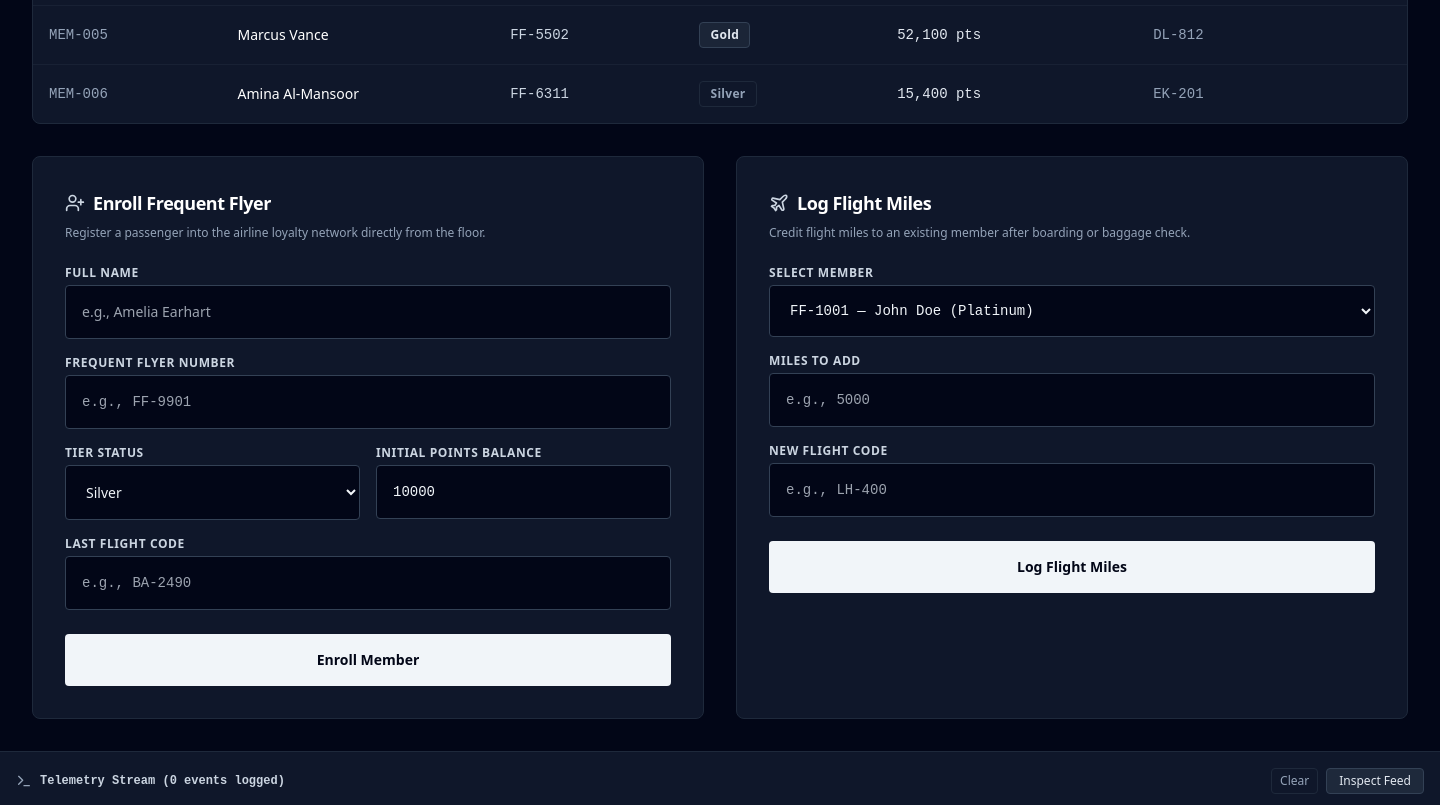
it: Ticket ENG-163087: Frequent Flyer Portal - Strict TDD Test Suite › 2. Unhappy Path & Edge Cases › prevents form submission and marks empty required inputs with border-red-600 and aria-invalid="true"
This screenshot has width=1440, height=805.
(page scrolled)
Click the button "Enroll Member".
click(368, 660)  # box [65,634,671,686]
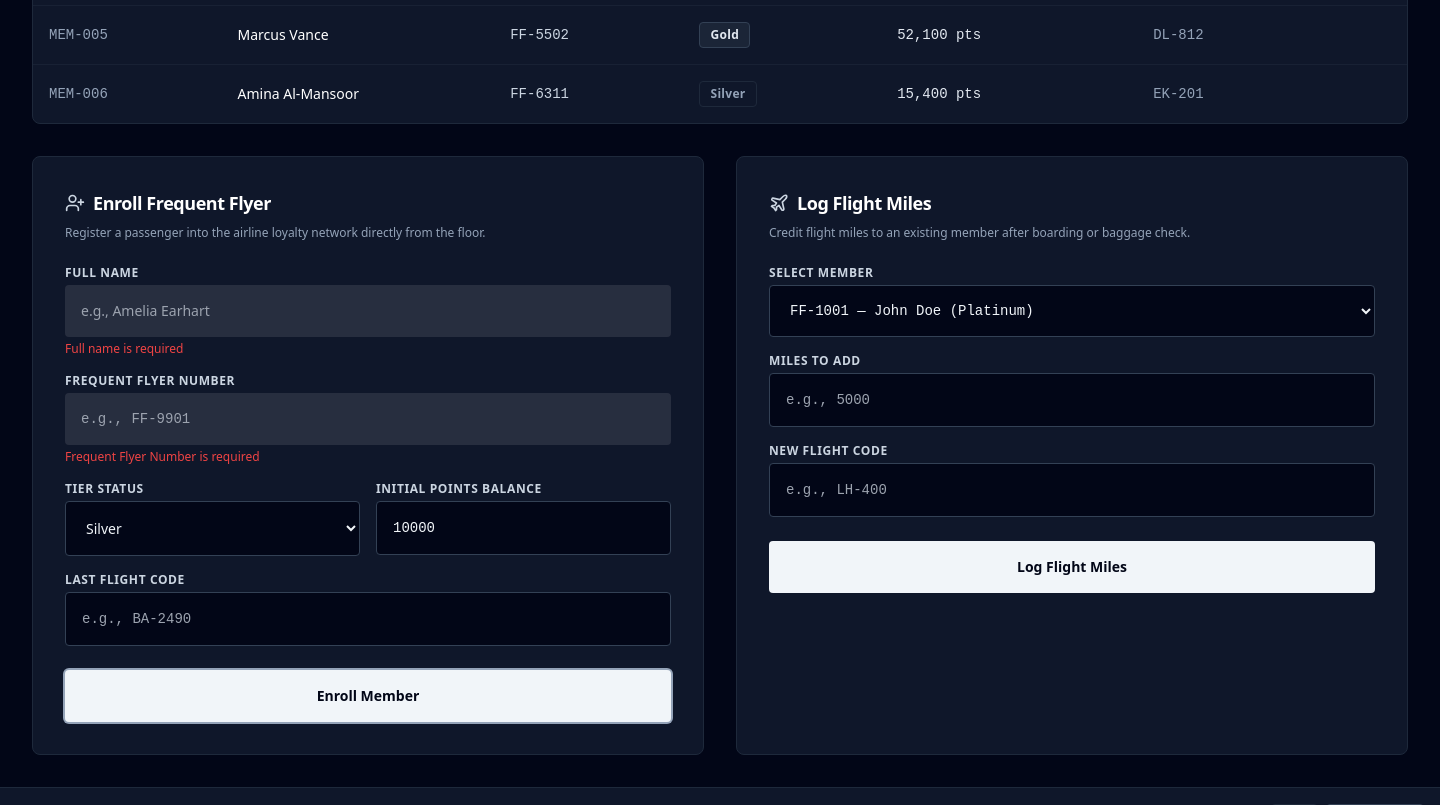
Now the text "Full name is required" is shown, box [65,340,183,357]
Now the text "Frequent Flyer Number is required" is shown, box [65,448,260,465]
